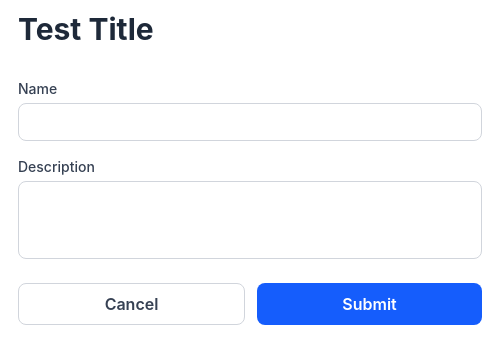
Scenario: AlbumForm › shows error and does not submit when name is empty
Click the button with test id "submit-button" at (370, 304), box [257,283,482,325]
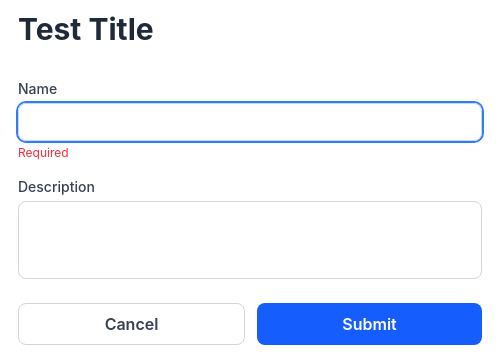
Expected: the text "Required" is shown, [18,145,69,160]
